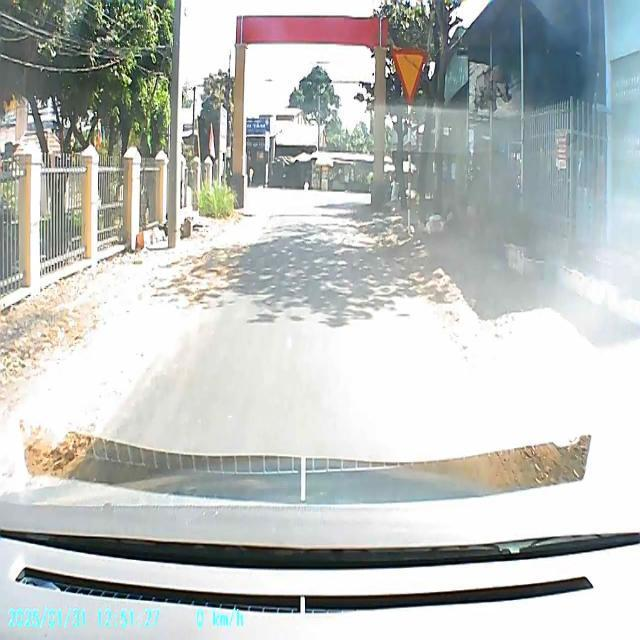208-giao-nhau-voi-duong-uu-tien: (391, 49, 429, 103)
